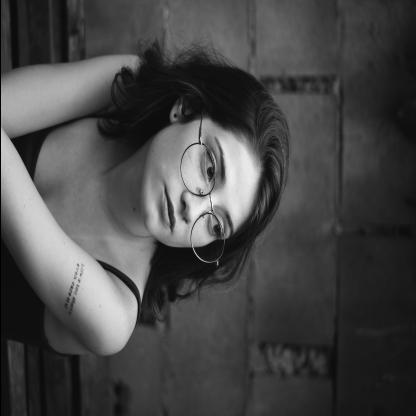Eye: (200, 144, 217, 189), (206, 211, 223, 240)
Mouth: (160, 185, 176, 235)
Nose: (180, 192, 210, 226)
